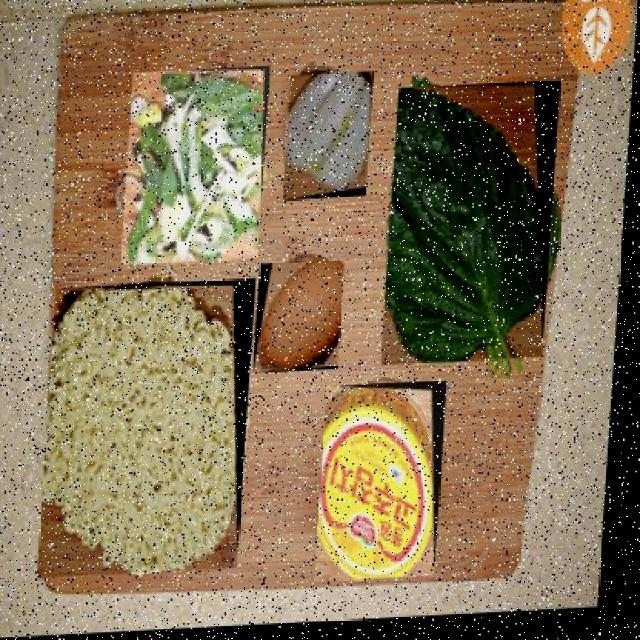Egg: (258, 262, 350, 376)
Noodles: (45, 280, 262, 578)
Onion: (286, 73, 377, 202)
Onion Leaves: (124, 67, 273, 267)
